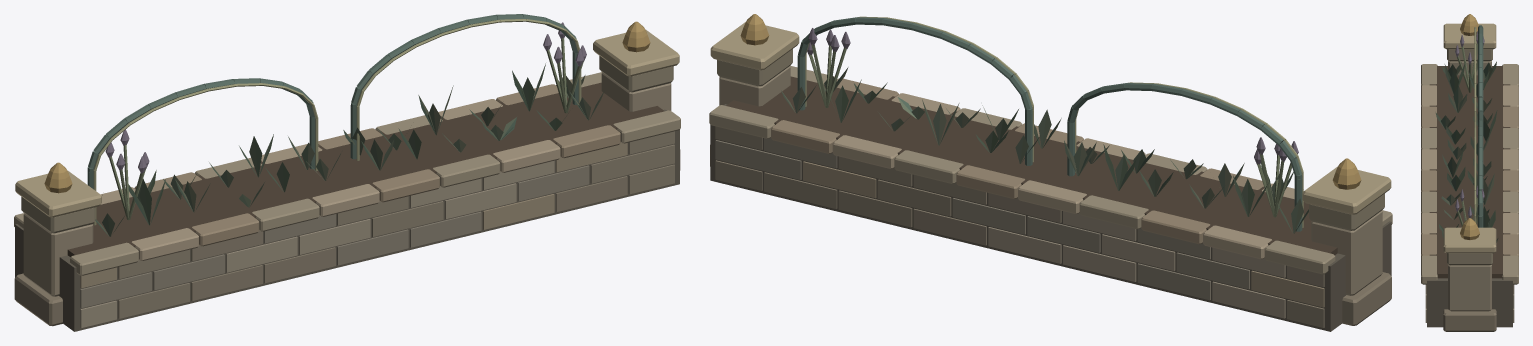
Rendered from herb_border.glb.
3 views of the same model, side by side, from view 1: azimuth 30°, elevation 25°; view 2: azimuth 150°, elevation 25°; view 3: azimuth 270°, elevation 25° (orthographic). The views are drawn at different scales.
Visible parts, largest first — view 1: herb_border; view 2: herb_border; view 3: herb_border.
Boxes of the visible parts, left/top/right/bottom form: herb_border: left=14, top=14, right=680, bottom=331; herb_border: left=709, top=14, right=1392, bottom=331; herb_border: left=1421, top=14, right=1518, bottom=331.
Bounding box in the file's own units: 3.98 × 1.09 × 0.738.
